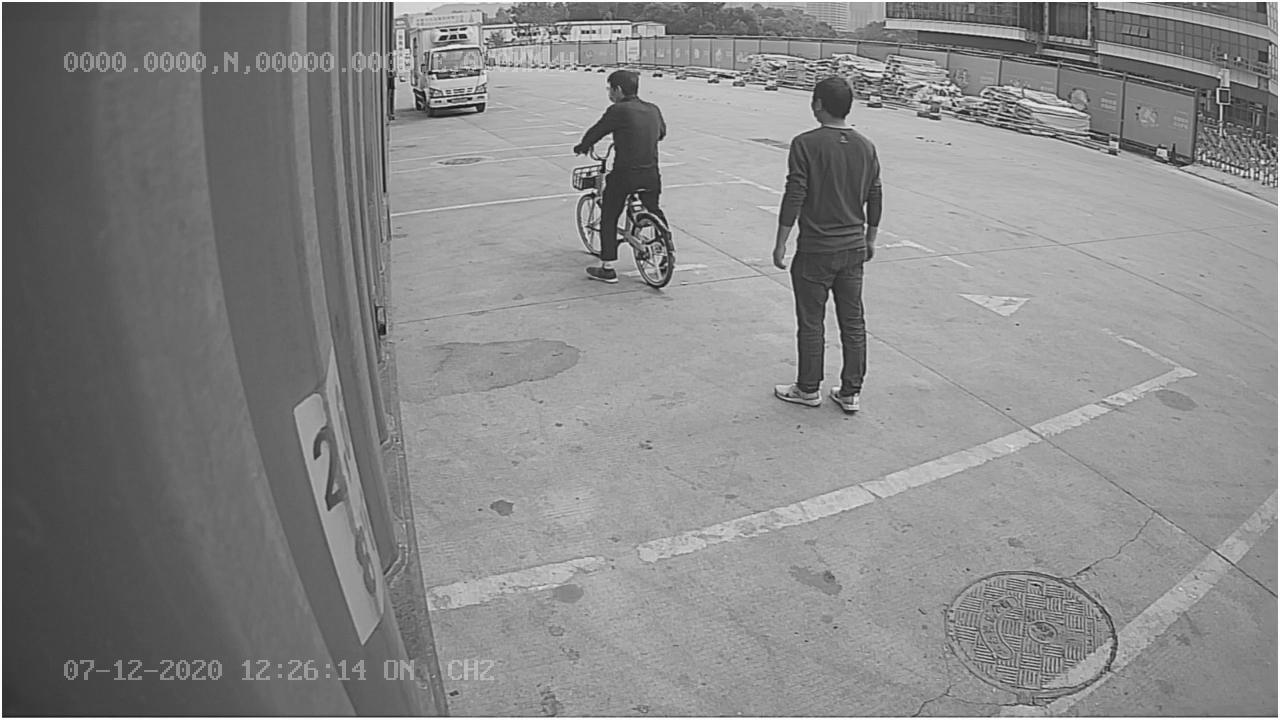person: (768, 71, 886, 414)
